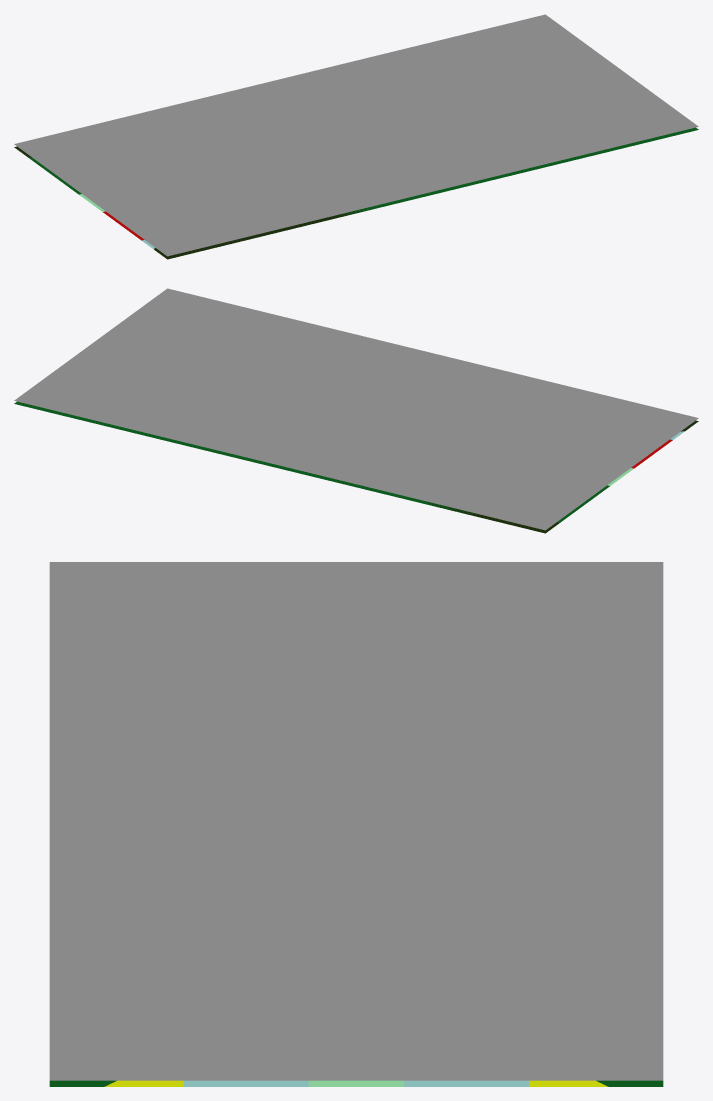
Rendered from RT CHIC V01 T03.FBX.
3 renders of one model, top to bottom at view 1: azimuth 30°, elevation 25°; view 2: azimuth 150°, elevation 25°; view 3: azimuth 270°, elevation 25°, orthographic. The views are drawn at different scales.
Parts seen in each view (by area): view 1: RT CHIC V01 T03 SNAP, RT CHIC V01 T03 NAV Grass.Conc, RT CHIC V01 T03 LOW; view 2: RT CHIC V01 T03 SNAP, RT CHIC V01 T03 NAV Grass, RT CHIC V01 T03 HI; view 3: RT CHIC V01 T03 SNAP, RT CHIC V01 T03 HI NoGrass, RT CHIC V01 T03 NAV Gravel C01-C02.
Part boxes in pixels (x1,y1,x2,y2): RT CHIC V01 T03 SNAP: [14, 14, 698, 256]; RT CHIC V01 T03 NAV Grass.Conc: [335, 127, 698, 216]; RT CHIC V01 T03 LOW: [18, 150, 365, 259]; RT CHIC V01 T03 SNAP: [14, 288, 698, 530]; RT CHIC V01 T03 NAV Grass: [14, 401, 609, 523]; RT CHIC V01 T03 HI: [428, 436, 677, 533]; RT CHIC V01 T03 SNAP: [49, 562, 663, 1080]; RT CHIC V01 T03 HI NoGrass: [183, 1080, 529, 1086]; RT CHIC V01 T03 NAV Gravel C01-C02: [104, 1080, 608, 1086].
Bounding box in the file's own units: 180 × 1 × 90.
